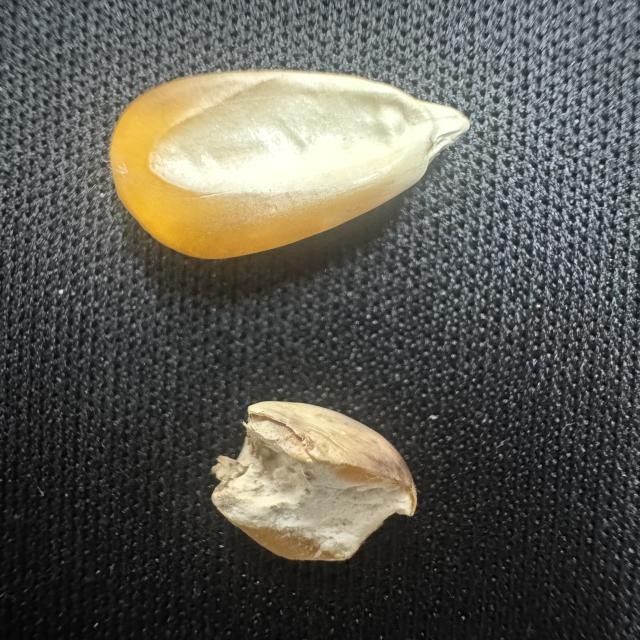Bad-Seed: (202, 386, 426, 572)
Good-Seed: (100, 62, 485, 272)
